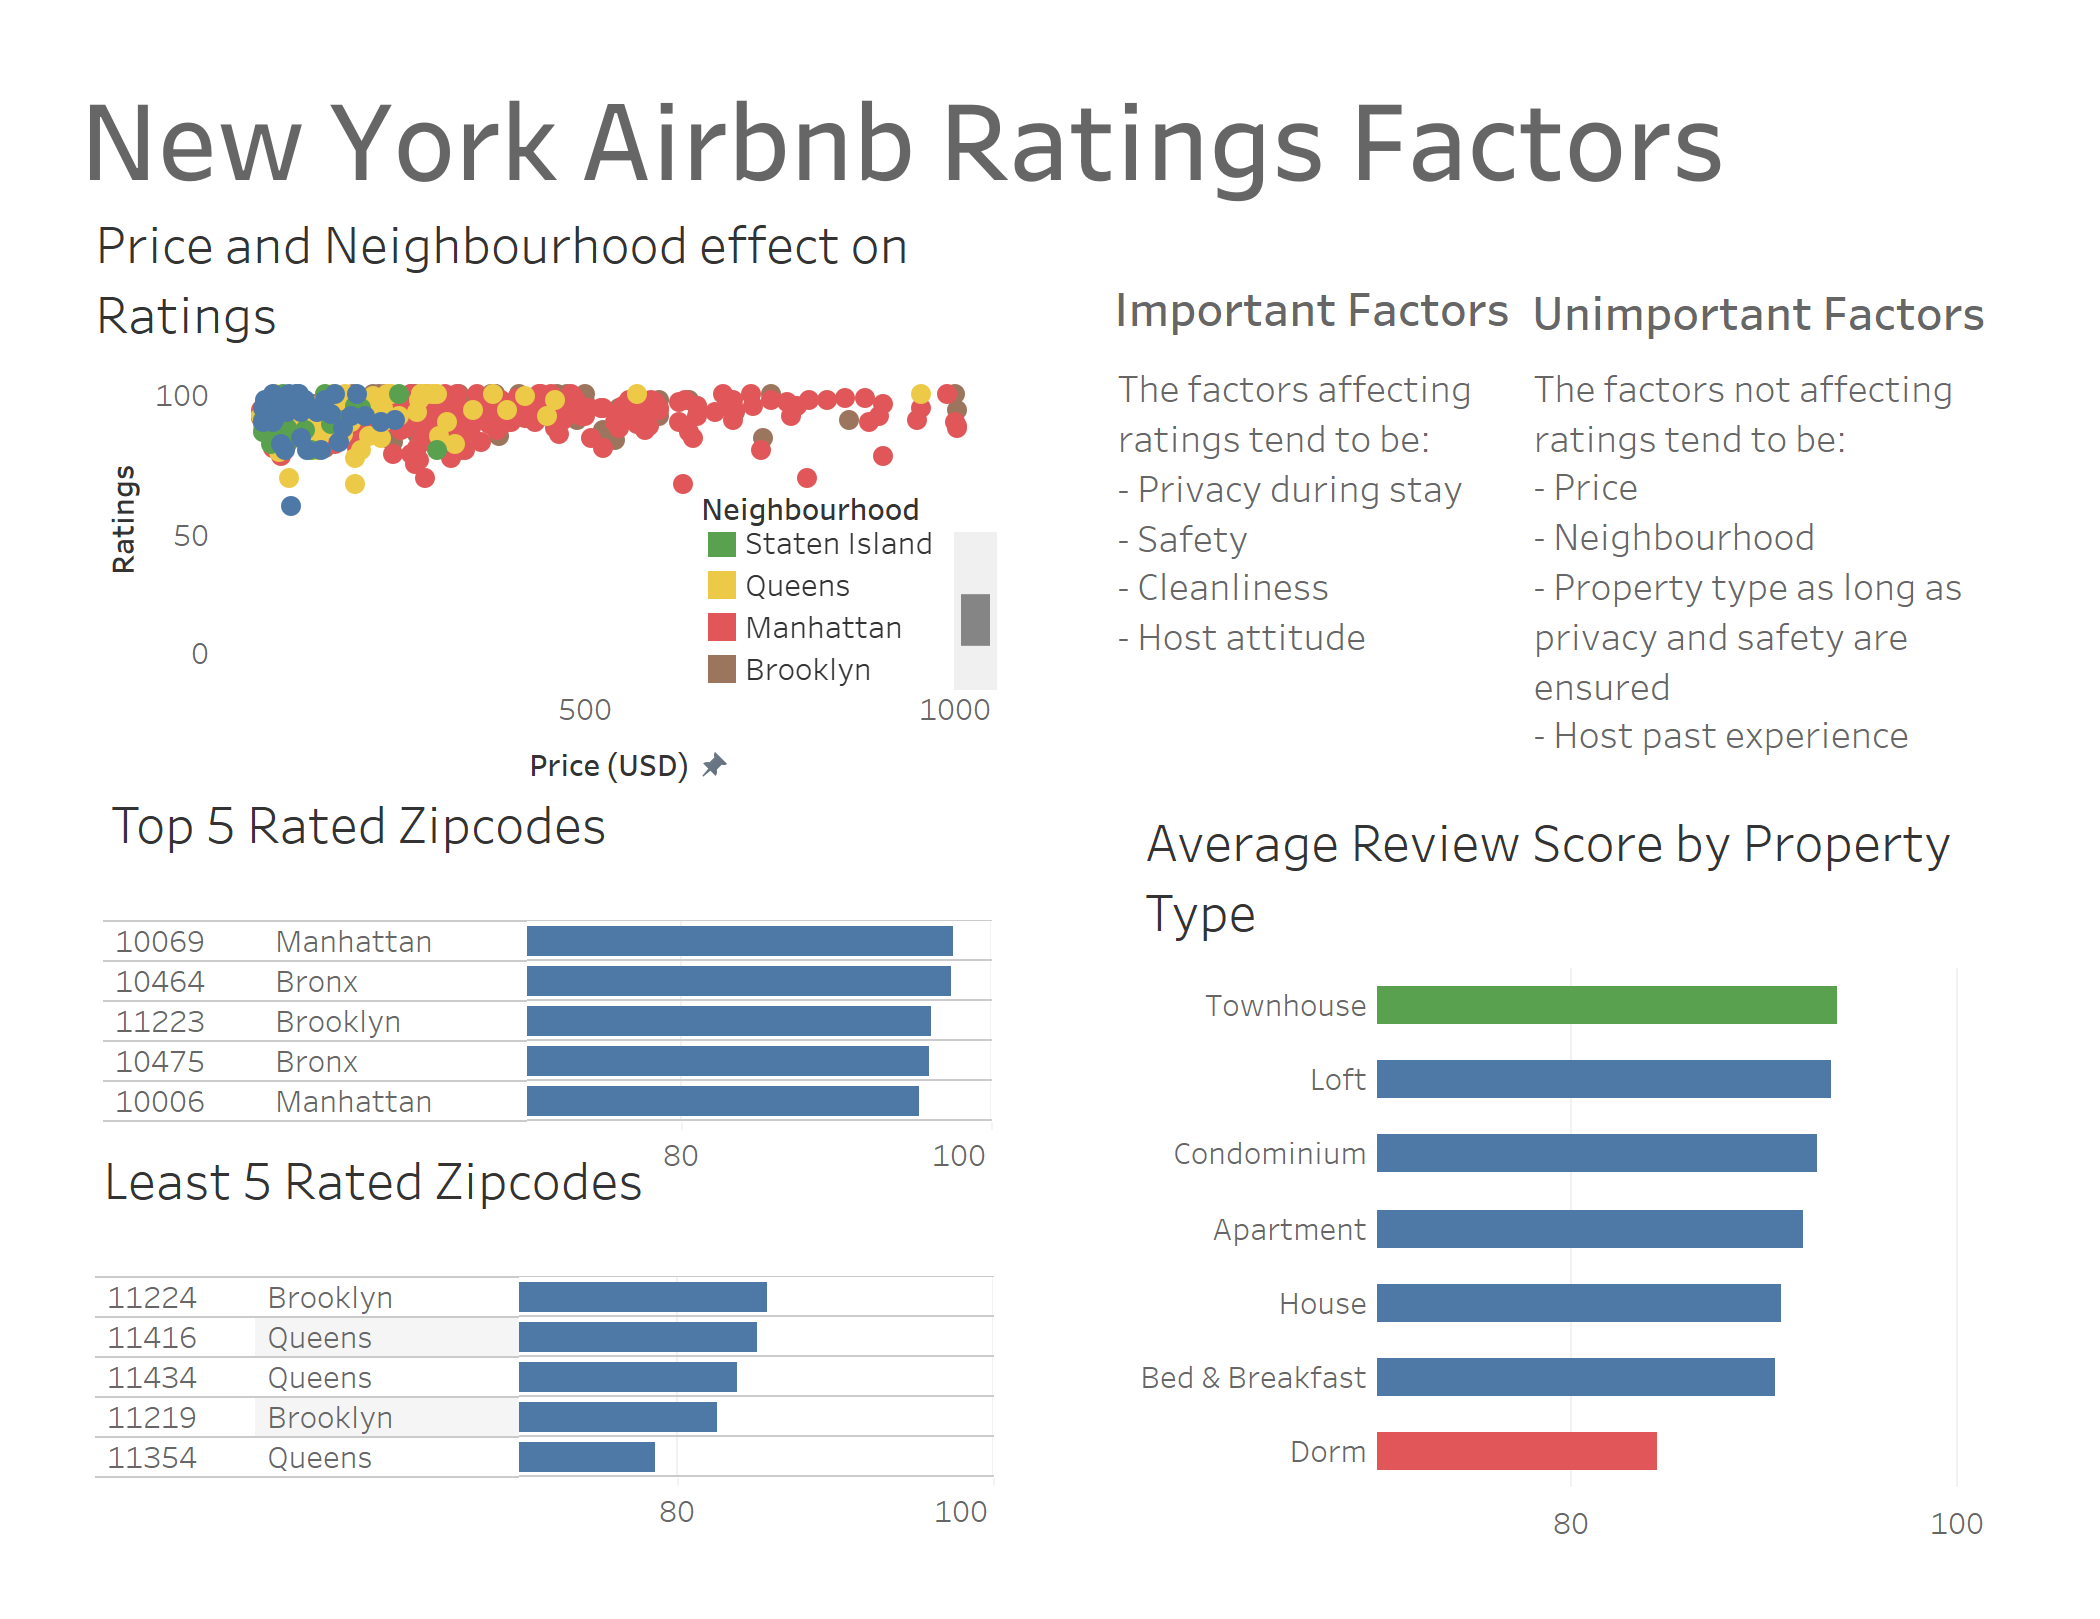

The dashboard page shown, as its layout file describes it:
{"tool":"tableau","page":{"name":"Dashboard 1","canvas":[1000,800],"ordinal":0},"visuals":[{"type":"text","box":[1,27,886,133]},{"type":"worksheet","title":"Ratings vs Price","mark":"Circle","rows":["Review Scores Rating"],"cols":["Price"],"box":[8,125,454,300]},{"type":"text","box":[518,163,244,32]},{"type":"text","box":[727,165,248,32]},{"type":"text","box":[728,193,245,226]},{"type":"text","box":[520.2,206.5,191.3,150.6]},{"type":"legend","title":"Ratings vs Price","param":"[federated.0wsf06z1nnfh7j15xuh191n2sy8k].[none:Neighbourhood:nk]","box":[315,269,150,101]},{"type":"worksheet","title":"Zip vs Rating Lowest (2)","mark":"Automatic","rows":["Zipcode","Neighbourhood"],"cols":["Review Scores Rating"],"box":[16.3,415,445.4,212.5]},{"type":"worksheet","title":"Average Price and Review Score","mark":"Automatic","rows":["Property Type"],"cols":["Review Scores Rating"],"box":[532.9,423.9,436.3,375.1]},{"type":"worksheet","title":"Zip vs Rating Lowest","mark":"Automatic","rows":["Zipcode","Neighbourhood"],"cols":["Review Scores Rating"],"box":[12,593,450,206]}]}

Visuals, with their boxes on the page's 1000x800 design canvas (x1, y1, x2, y2). These are canvas units, not pixel positions in the 2100x1619 screenshot, which may show the page scaled, cropped or inside an application window:
text: <region>1, 27, 887, 160</region>
"Ratings vs Price" worksheet (Circle marks): <region>8, 125, 462, 425</region>
text: <region>518, 163, 762, 195</region>
text: <region>727, 165, 975, 197</region>
text: <region>728, 193, 973, 419</region>
text: <region>520, 206, 712, 357</region>
"Ratings vs Price" legend: <region>315, 269, 465, 370</region>
"Zip vs Rating Lowest (2)" worksheet: <region>16, 415, 462, 628</region>
"Average Price and Review Score" worksheet: <region>533, 424, 969, 799</region>
"Zip vs Rating Lowest" worksheet: <region>12, 593, 462, 799</region>
